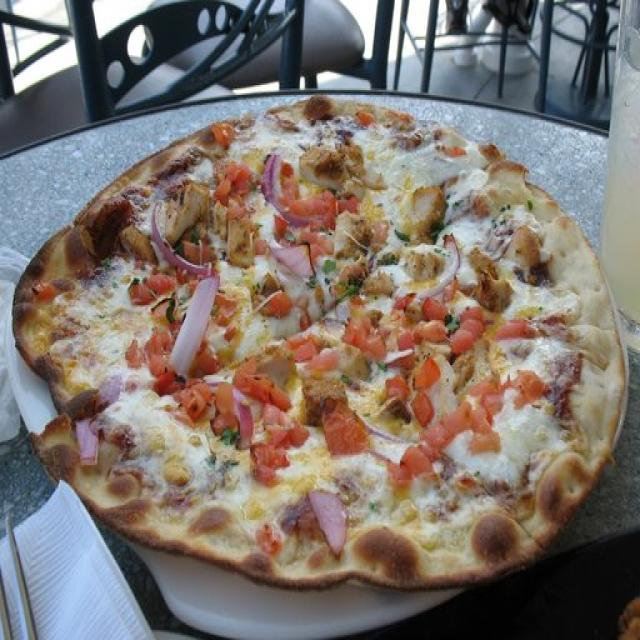Chicken: (469, 249, 508, 309), (215, 207, 254, 267), (167, 188, 210, 239), (340, 212, 371, 264), (306, 147, 347, 185), (413, 188, 443, 239), (308, 380, 339, 424), (264, 352, 296, 394), (404, 240, 441, 275), (121, 228, 158, 262), (514, 226, 535, 279), (364, 272, 396, 296), (455, 352, 476, 388), (337, 346, 363, 371)
Onions: (170, 277, 220, 378), (152, 210, 212, 272), (307, 491, 352, 555), (266, 166, 312, 223), (274, 242, 316, 278), (76, 421, 99, 463), (235, 396, 253, 440)
Pizza: (14, 100, 626, 592)
Tomato: (391, 292, 485, 349), (449, 396, 507, 453), (168, 380, 230, 430), (387, 360, 435, 420), (258, 422, 300, 479), (399, 434, 446, 478), (478, 370, 544, 401), (327, 415, 373, 456), (346, 311, 386, 358), (212, 160, 251, 207), (128, 335, 166, 370), (132, 273, 167, 301), (314, 193, 356, 216), (494, 318, 528, 340), (211, 124, 237, 148)
